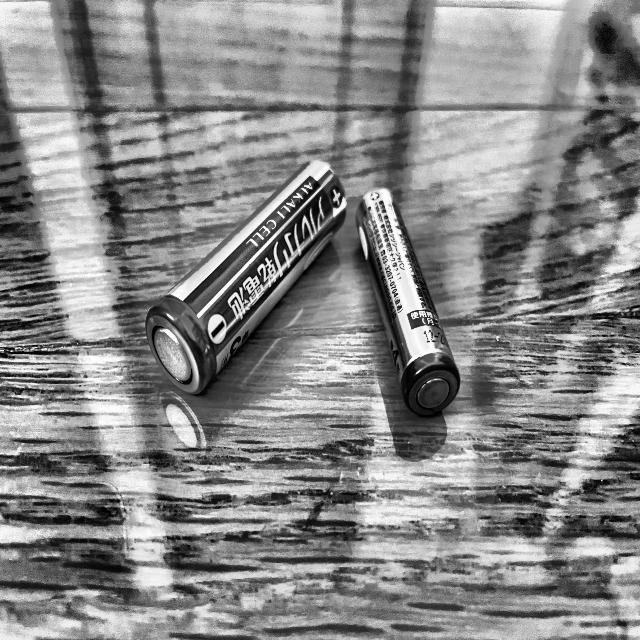drycell: (139, 157, 351, 400), (352, 184, 464, 419)
